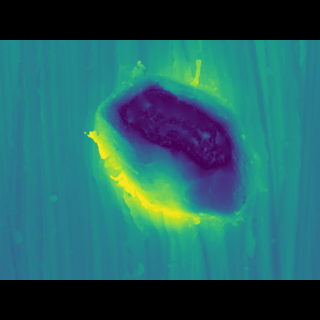Loch: (79, 85, 268, 223)
